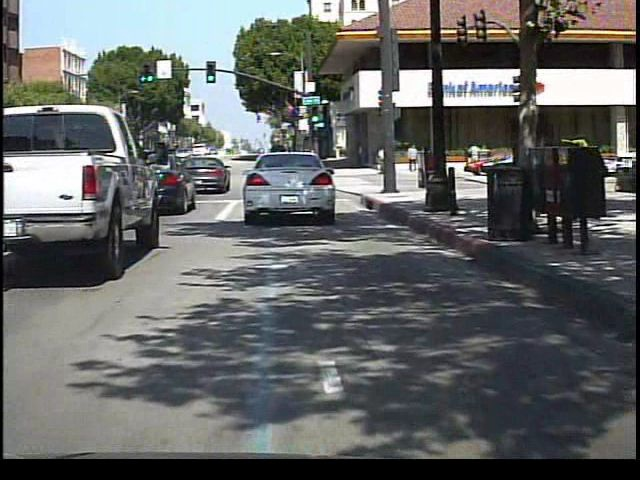person: (464, 138, 483, 172), (404, 142, 422, 175)
